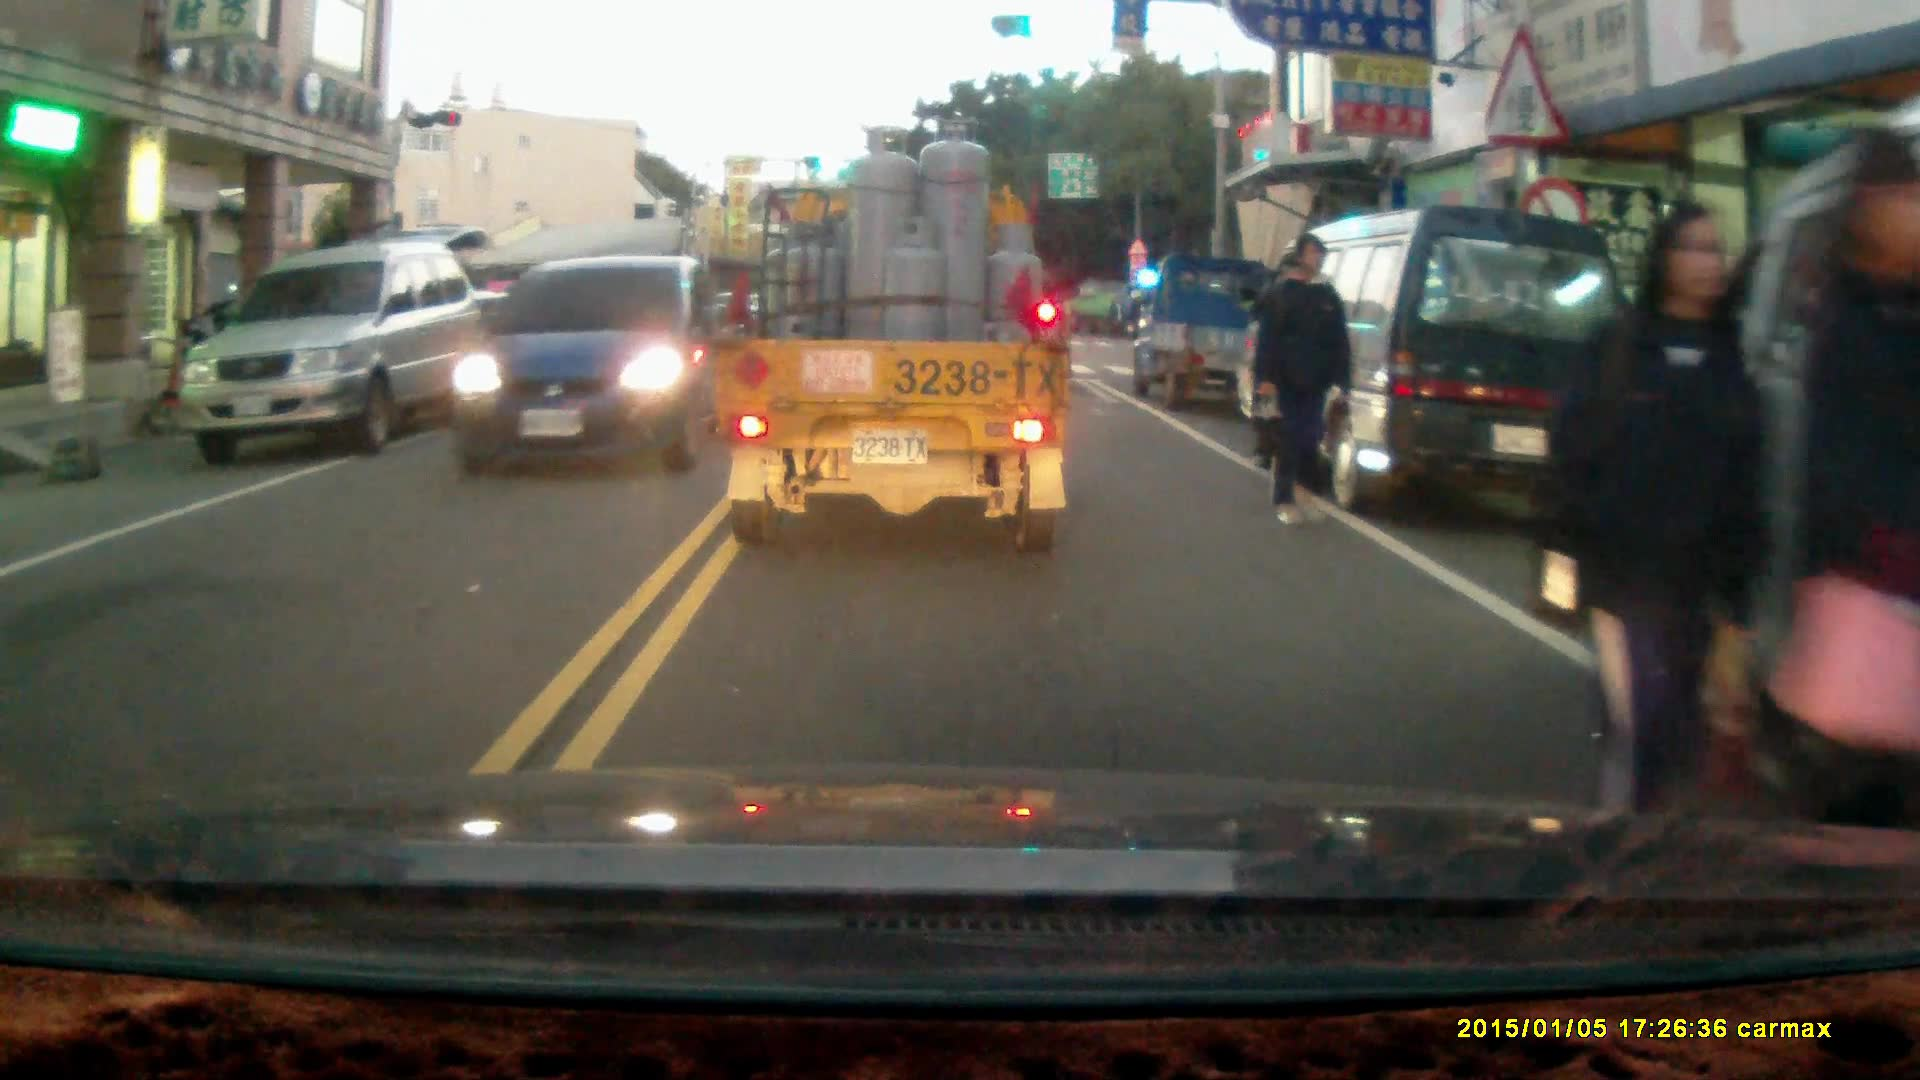pedestrian: (1562, 193, 1771, 873), (1762, 123, 1920, 874), (1256, 234, 1361, 535)
vehicle: (1660, 108, 1920, 798), (713, 119, 1075, 543), (1241, 202, 1636, 533), (183, 242, 487, 463), (451, 256, 751, 472), (399, 288, 584, 414), (1124, 248, 1259, 404)
